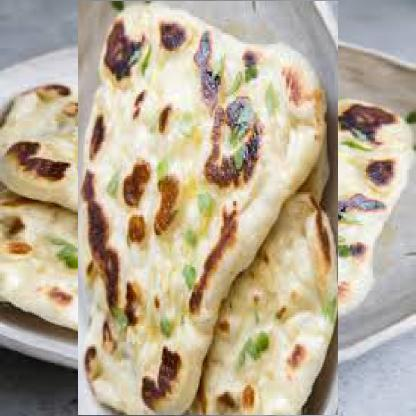naan: (39, 38, 377, 376)
